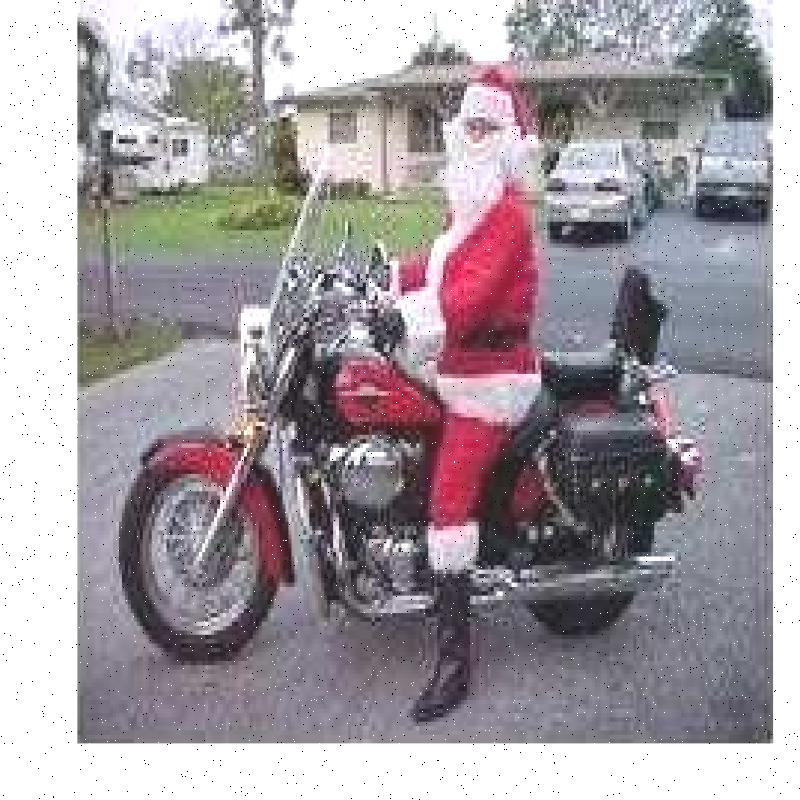bike: (124, 212, 704, 680)
